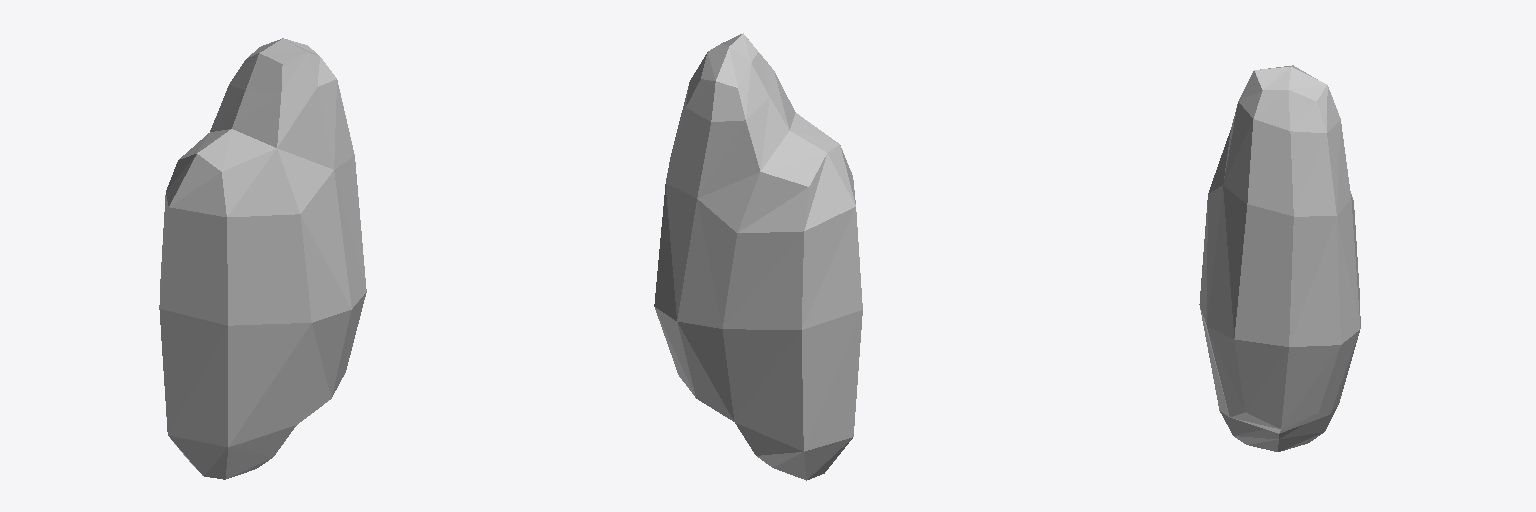
File: Rock05_lava.obj
3 renders of one model, left to right at view 1: azimuth 30°, elevation 25°; view 2: azimuth 150°, elevation 25°; view 3: azimuth 270°, elevation 25°, orthographic.
Parts seen in each view (by area): view 1: Rock05_lava; view 2: Rock05_lava; view 3: Rock05_lava.
Part boxes in pixels (x1,y1,x2,y2): Rock05_lava: (159,38,366,479); Rock05_lava: (654,33,862,480); Rock05_lava: (1199,65,1360,451).
Bounding box in the file's own units: 137 × 282 × 100.